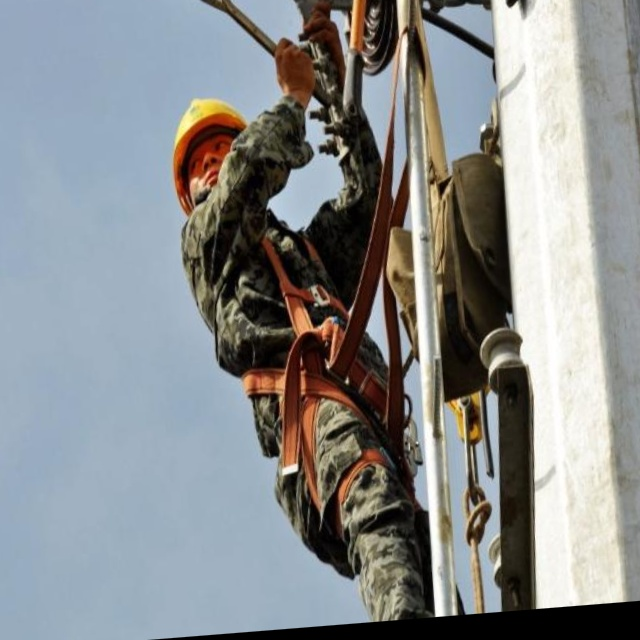Con_Casco: (165, 92, 256, 226)
